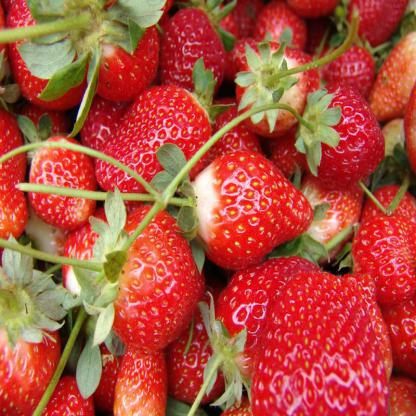strawberry: (295, 69, 395, 204)
